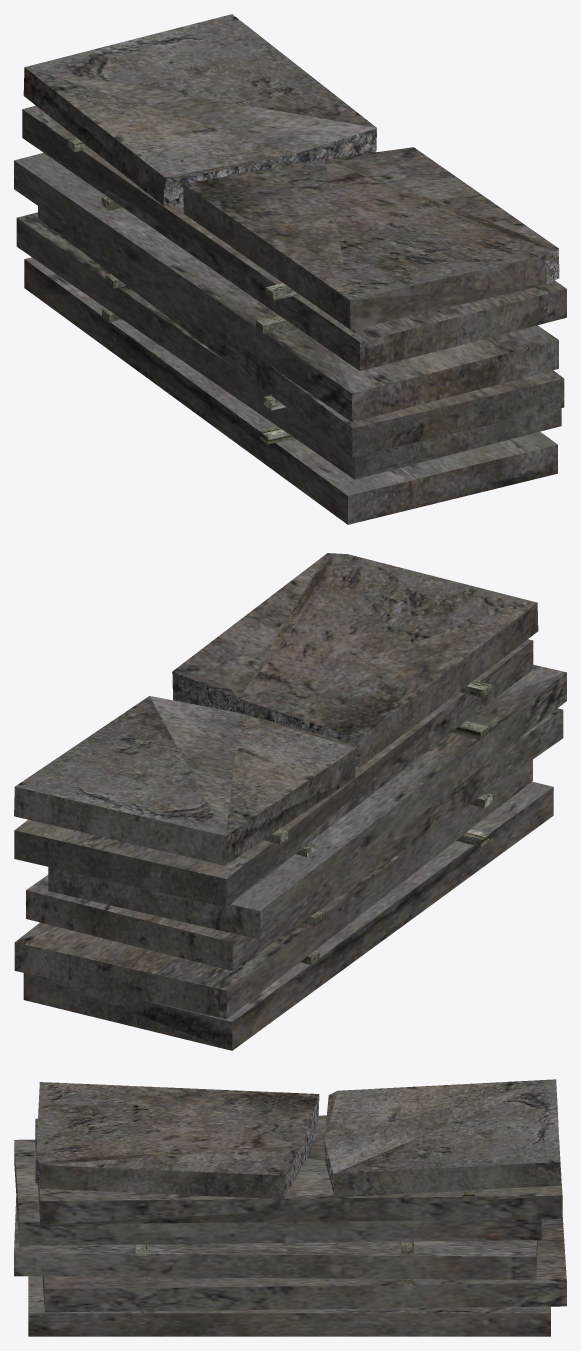
File: concrete_block_1.obj
3 renders of one model, top to bottom at view 1: azimuth 30°, elevation 25°; view 2: azimuth 150°, elevation 25°; view 3: azimuth 270°, elevation 25°, orthographic. The views are drawn at different scales.
Visible parts, largest first — view 1: 0.025, 1.021, 2.010; view 2: 0.025, 1.021, 2.010; view 3: 0.025, 1.021, 2.010.
Part boxes in pixels (bbox=[...]): 0.025: bbox=[14, 14, 566, 524]; 1.021: bbox=[163, 128, 559, 284]; 2.010: bbox=[67, 136, 299, 444]; 0.025: bbox=[14, 553, 566, 1050]; 1.021: bbox=[172, 671, 359, 767]; 2.010: bbox=[264, 680, 492, 964]; 0.025: bbox=[14, 1079, 566, 1336]; 1.021: bbox=[35, 1095, 334, 1198]; 2.010: bbox=[135, 1190, 474, 1315].
Size of the model in its own units: 2.28 by 1.93 by 5.5.
